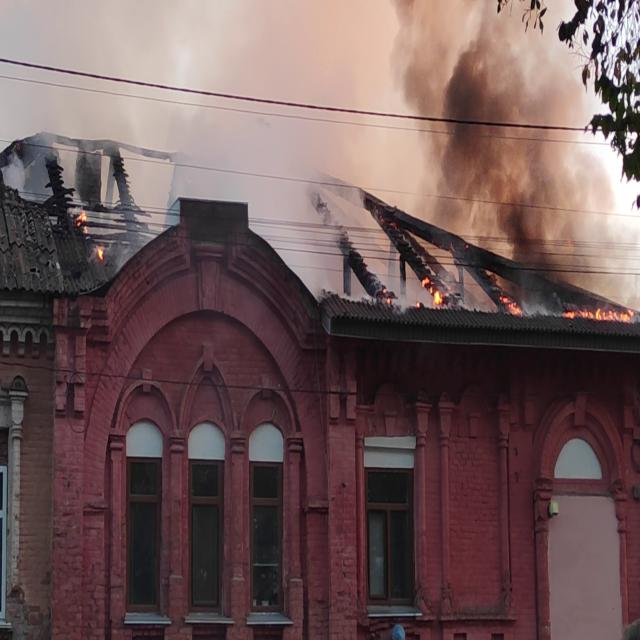fire: (560, 295, 636, 329), (421, 272, 452, 318), (493, 282, 524, 321)
smoke: (495, 100, 557, 272), (443, 60, 489, 219)
